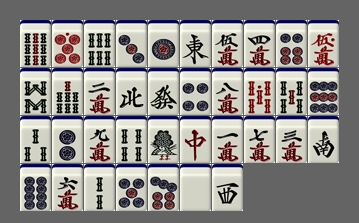0m: (308, 20, 339, 67)
0p: (52, 20, 83, 67)
0s: (244, 68, 275, 115)
1m: (212, 116, 243, 163)
1p: (148, 20, 179, 67)
1s: (148, 116, 179, 163)
1z: (180, 20, 211, 67)
2m: (84, 68, 115, 115)
2p: (52, 116, 83, 163)
2s: (84, 164, 115, 211)
2z: (308, 116, 339, 163)
3m: (276, 116, 307, 163)
3p: (116, 20, 147, 67)
3s: (20, 116, 51, 163)
3z: (212, 164, 243, 211)
4m: (244, 20, 275, 67)
4p: (180, 68, 211, 115)
4s: (116, 116, 147, 163)
4z: (116, 68, 147, 115)
5m: (212, 20, 243, 67)
5p: (116, 164, 147, 211)
5s: (276, 68, 307, 115)
5z: (180, 164, 211, 211)
6m: (52, 164, 83, 211)
6p: (276, 20, 307, 67)
6s: (84, 20, 115, 67)
6z: (148, 68, 179, 115)
7m: (244, 116, 275, 163)
7p: (148, 164, 179, 211)
7s: (52, 68, 83, 115)
7z: (180, 116, 211, 163)
8m: (212, 68, 243, 115)
8p: (20, 164, 51, 211)
8s: (20, 68, 51, 115)
9m: (84, 116, 115, 163)
9p: (308, 68, 339, 115)
9s: (20, 20, 51, 67)
